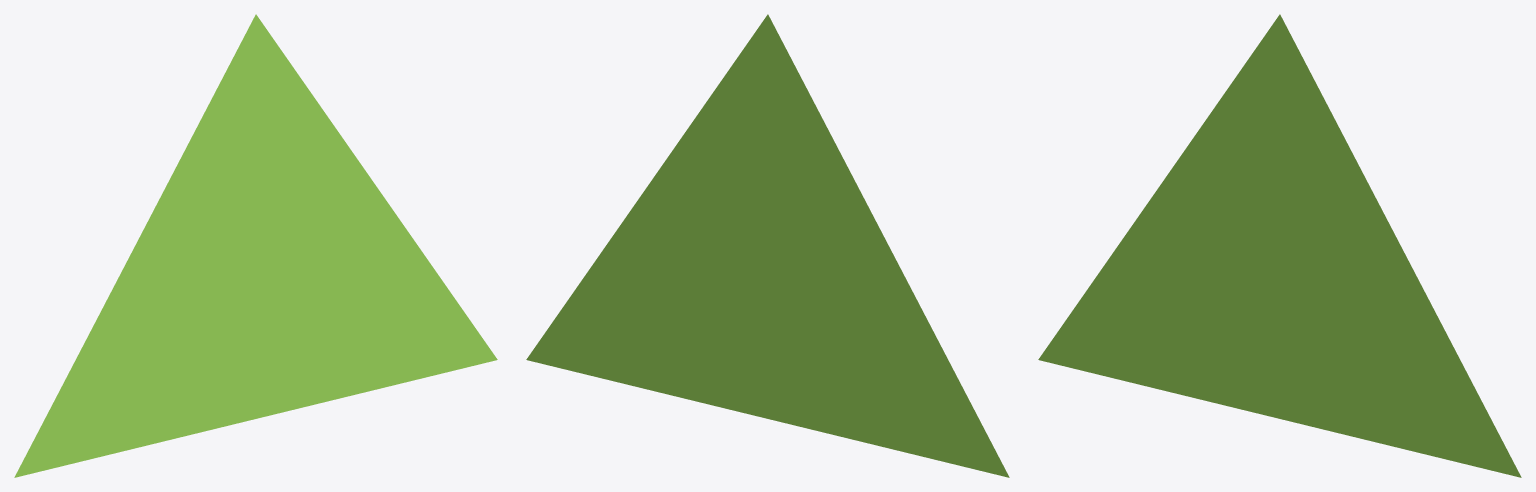
The model's file is triangle.gltf.
3 views of the same model, side by side, from view 1: azimuth 30°, elevation 25°; view 2: azimuth 150°, elevation 25°; view 3: azimuth 330°, elevation 25° (orthographic).
Visible parts, largest first — view 1: Signal Triangle; view 2: Signal Triangle; view 3: Signal Triangle.
Part boxes in pixels (left/top/right/bottom): Signal Triangle: left=14, top=14, right=497, bottom=477; Signal Triangle: left=526, top=14, right=1009, bottom=477; Signal Triangle: left=1038, top=14, right=1521, bottom=477.
Bounding box in the file's own units: 2 × 1.6 × 0.
